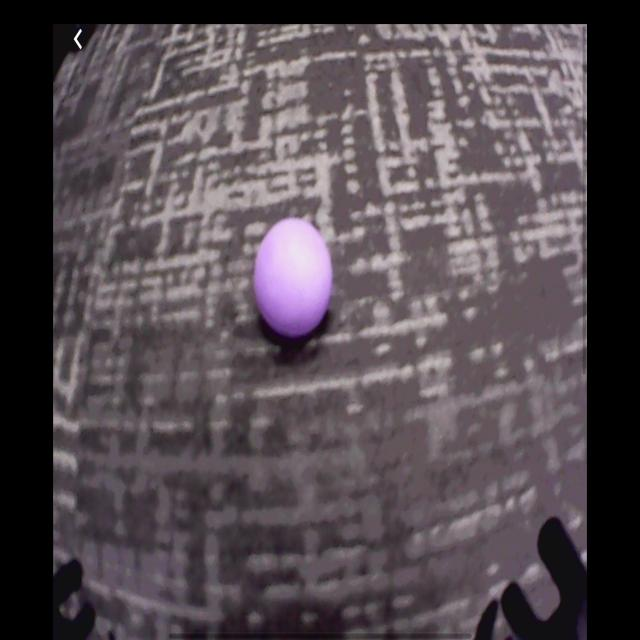ball: (254, 219, 332, 339)
